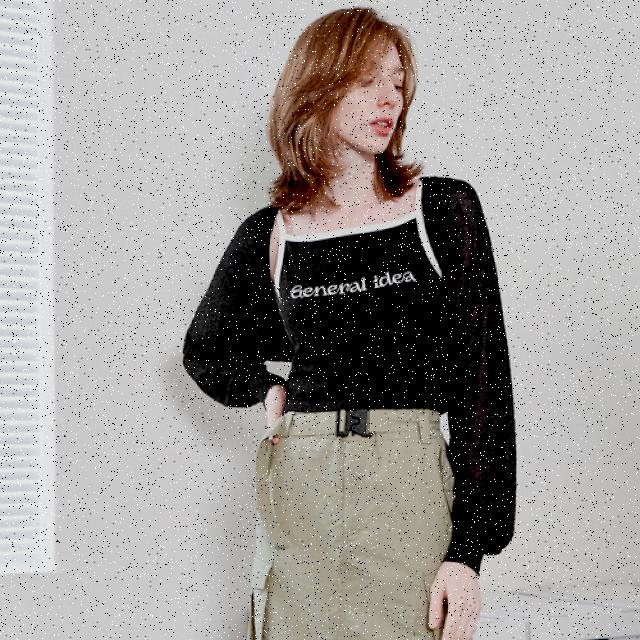Blouse_deep: (181, 177, 520, 568)
